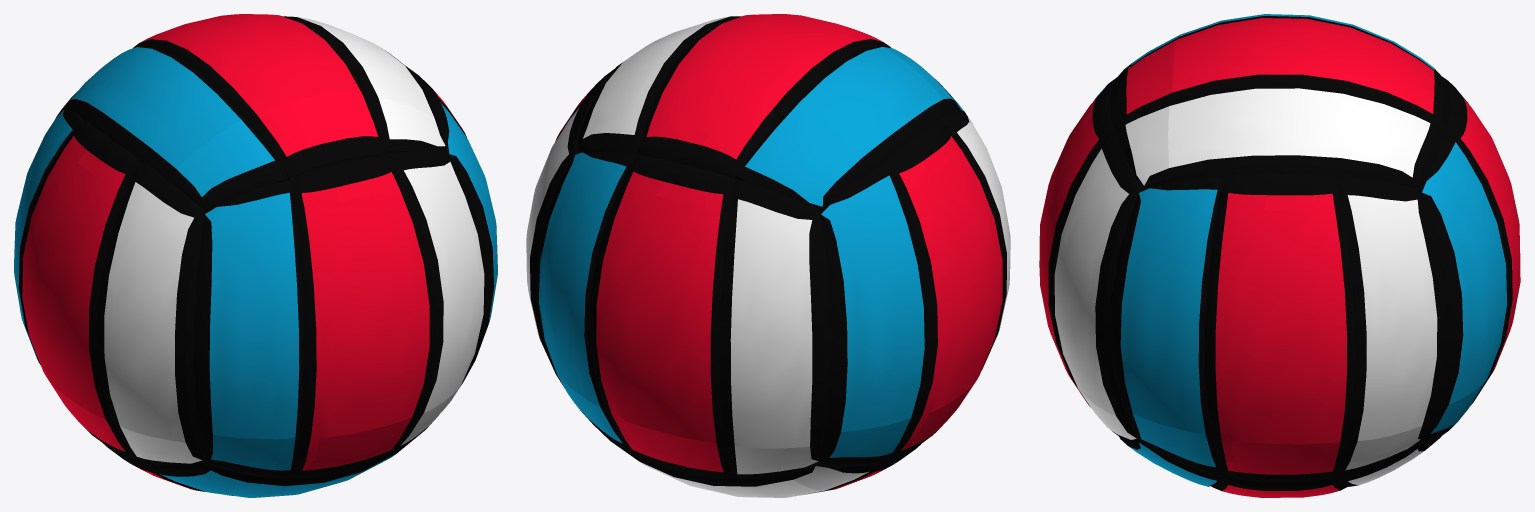
The model's file is Volleyball.glb.
3 views of the same model, side by side, from view 1: azimuth 30°, elevation 25°; view 2: azimuth 150°, elevation 25°; view 3: azimuth 270°, elevation 25° (orthographic).
Parts seen in each view (by area): view 1: Sphere.5_remesh.4-Mat (×10), Sphere.5_remesh.3-Mat (×9), Sphere.5_remesh.5-Mat (×8), Sphere.5_remesh-Mat (×3), Sphere.5_remesh.1-Mat (×2); view 2: Sphere.5_remesh.2-Mat (×11), Sphere.5_remesh.3-Mat (×8), Sphere.5_remesh.5-Mat (×7), Sphere.5_remesh-Mat (×4), Sphere.5_remesh.1-Mat (×3); view 3: Sphere.5_remesh.1-Mat (×12), Sphere.5_remesh.5-Mat (×8), Sphere.5_remesh.4-Mat (×6), Sphere.5_remesh.2-Mat (×5), Sphere.5_remesh-Mat (×4).
Boxes of the visible parts, x1,y1,x2,y2 form: Sphere.5_remesh.4-Mat (×10): (193,149,487,478); Sphere.5_remesh.3-Mat (×9): (14,108,205,465); Sphere.5_remesh.5-Mat (×8): (66,14,445,211); Sphere.5_remesh-Mat (×3): (145,415,438,497); Sphere.5_remesh.1-Mat (×2): (433,97,497,386); Sphere.5_remesh.2-Mat (×11): (536,151,832,478); Sphere.5_remesh.3-Mat (×8): (818,108,1010,466); Sphere.5_remesh.5-Mat (×7): (581,14,958,209); Sphere.5_remesh-Mat (×4): (593,424,878,497); Sphere.5_remesh.1-Mat (×3): (526,95,594,387); Sphere.5_remesh.1-Mat (×12): (1109,173,1450,482); Sphere.5_remesh.5-Mat (×8): (1111,14,1444,189); Sphere.5_remesh.4-Mat (×6): (1039,77,1142,439); Sphere.5_remesh.2-Mat (×5): (1419,77,1520,441); Sphere.5_remesh-Mat (×4): (1119,436,1433,497).
Bounding box in the file's own units: 0.2098 × 0.2098 × 0.2098.
